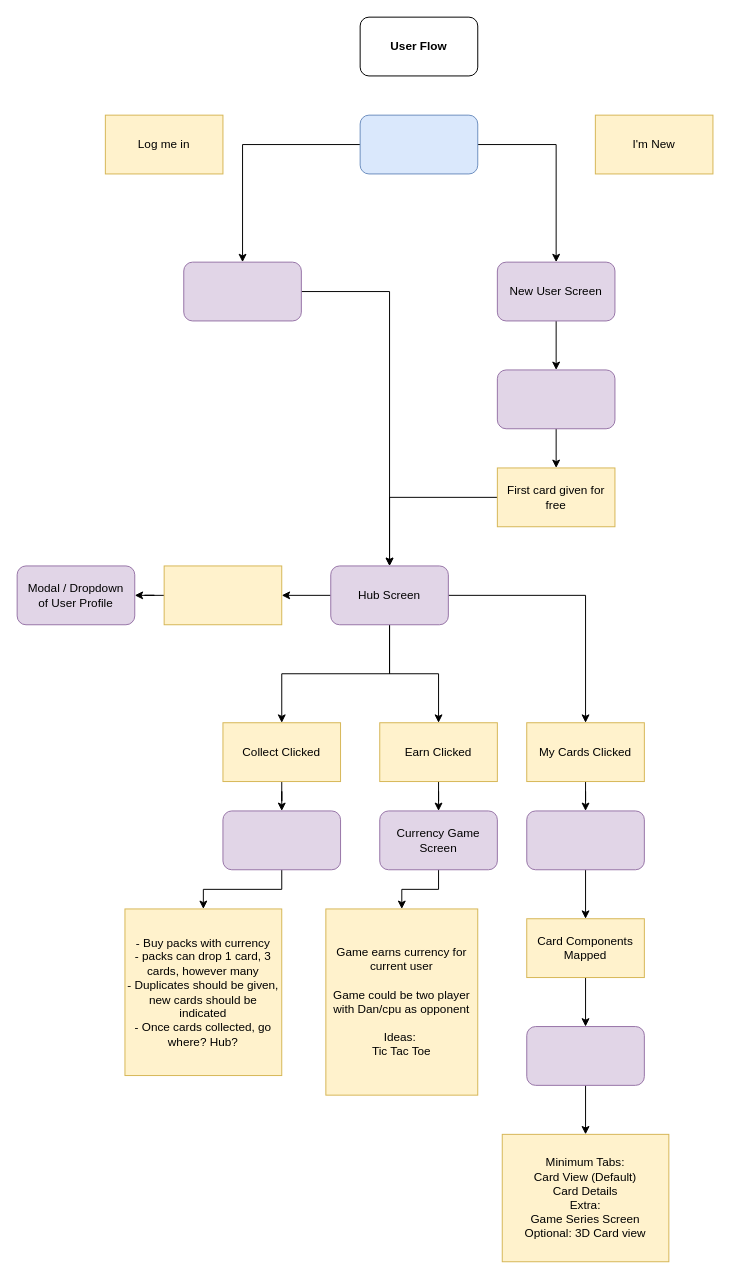
Image size: 730x1279. Some labels were removed from this diagram. The shapes that lost their labels are listed below. From the top down, each one's centre as x and y in pixels, then its label:
At (x=418, y=144): "Front Page".
At (x=242, y=291): "Login Screen".
At (x=555, y=399): "Collect Screen".
At (x=222, y=595): "User Profile Clicked".
At (x=281, y=840): "Collect Cards Screen".
At (x=585, y=840): "My Cards Screen".
At (x=585, y=1055): "Card View Screen".
